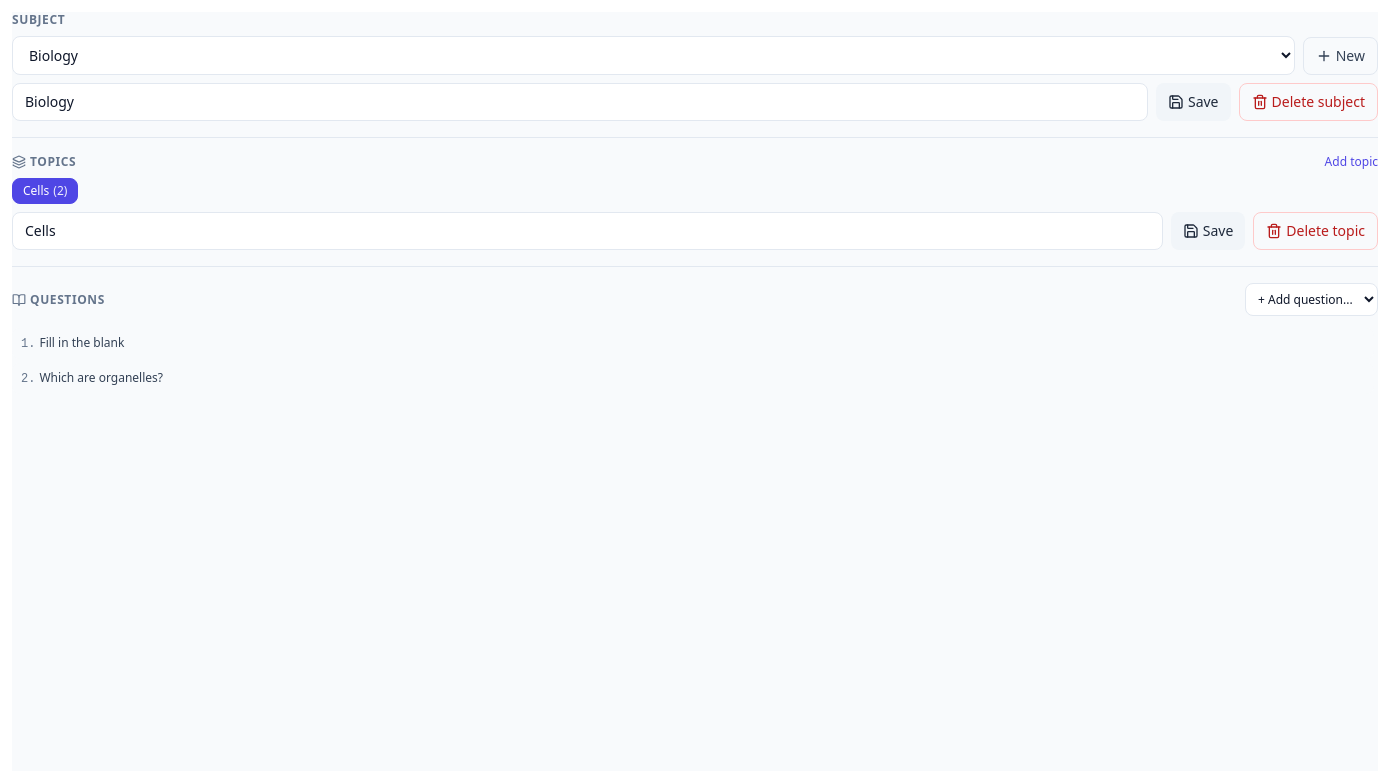
ContentEditor › adds a question of the chosen type and opens it
This screenshot has width=1390, height=771.
Select "True / false" in the dropdown named "Add question": (1312, 300) [1245,283,1378,316]
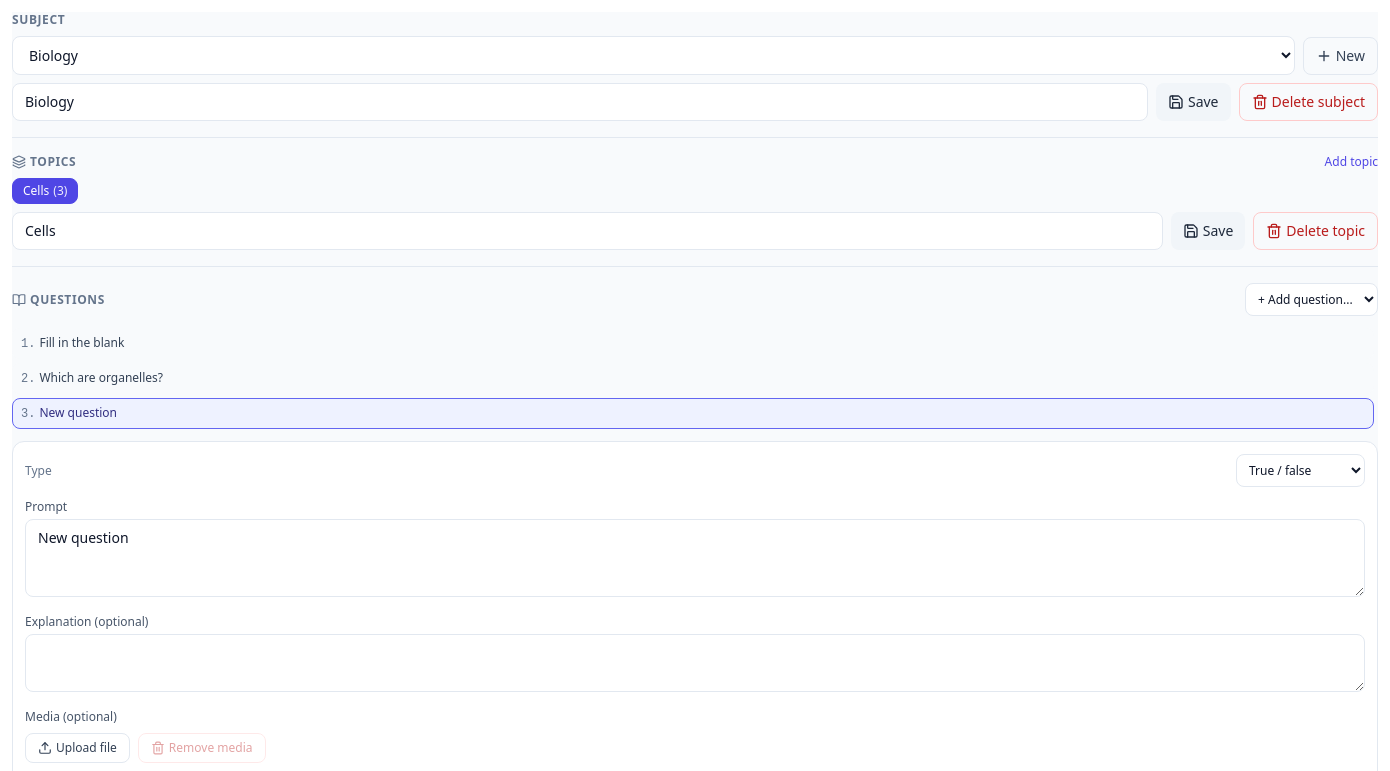
Check: the dropdown labelled "Type" shows "True / false", box [1236,454,1365,487]
Check: the text box labelled "Prompt" holds "New question", box [25,519,1365,597]
